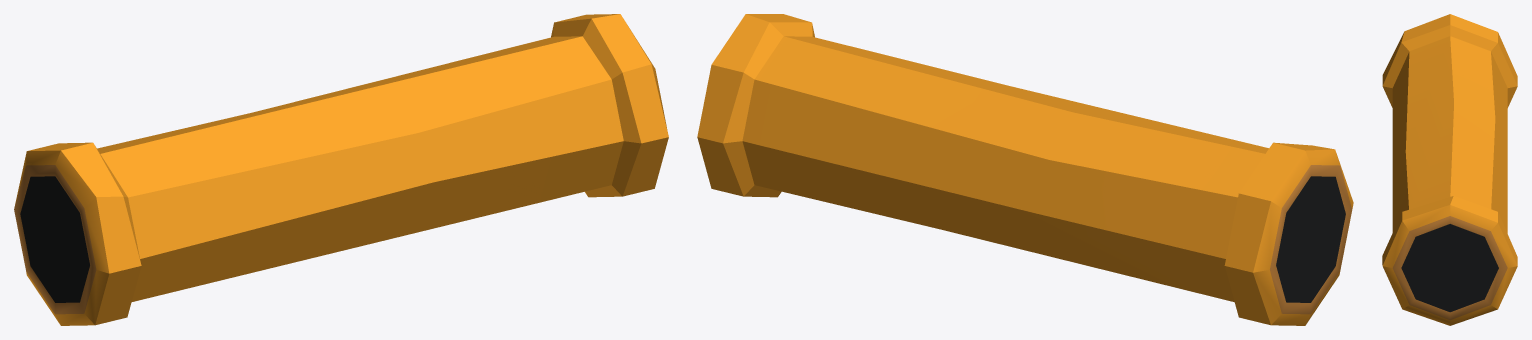
The model's file is SM_Prop_Pipe_03.fbx.
The picture shows the model from 3 angles, left to right: view 1: azimuth 30°, elevation 25°; view 2: azimuth 150°, elevation 25°; view 3: azimuth 270°, elevation 25°; orthographic projection. The views are drawn at different scales.
Parts seen in each view (by area): view 1: SM_Prop_Pipe_03; view 2: SM_Prop_Pipe_03; view 3: SM_Prop_Pipe_03.
Boxes of the visible parts, left/top/right/bottom form: SM_Prop_Pipe_03: left=14, top=14, right=668, bottom=325; SM_Prop_Pipe_03: left=697, top=14, right=1353, bottom=325; SM_Prop_Pipe_03: left=1382, top=14, right=1517, bottom=325.
Size of the model in its own units: 400 by 117 by 118.
